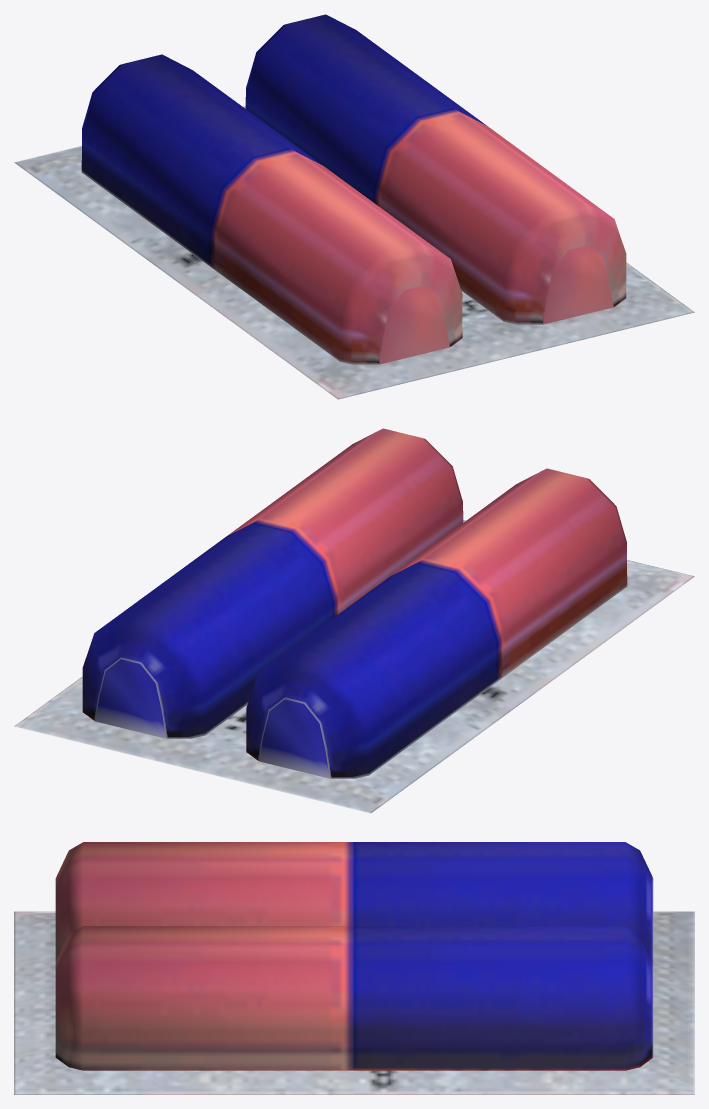
The model's file is item_antirad.fbx.
3 views of the same model, one above another, from view 1: azimuth 30°, elevation 25°; view 2: azimuth 150°, elevation 25°; view 3: azimuth 270°, elevation 25° (orthographic). The views are drawn at different scales.
Visible parts, largest first — view 1: 0; view 2: 0; view 3: 0.
Part boxes in pixels (box(x1,y1,x2,y2)): 0: box(14, 14, 694, 399); 0: box(14, 428, 694, 813); 0: box(14, 842, 694, 1094).
Bounding box in the file's own units: 0.0766 × 0.0213 × 0.1204.
